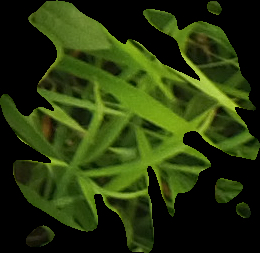grass: (1, 1, 259, 250)
